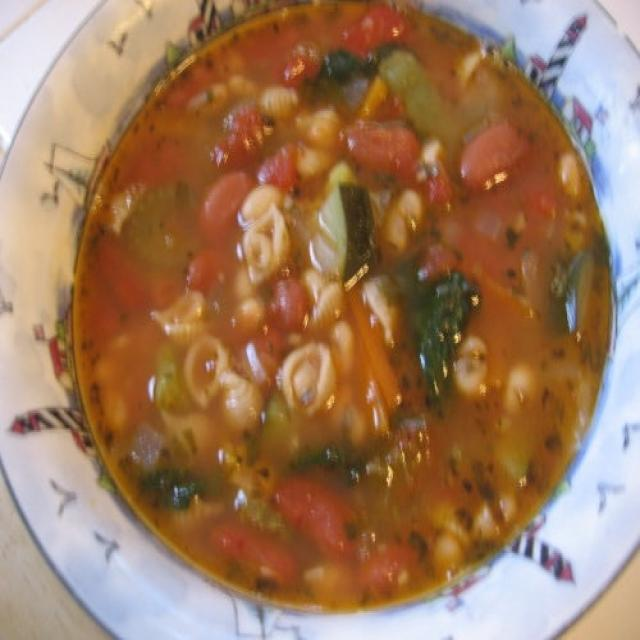汤锅炖物: (37, 15, 630, 623)
